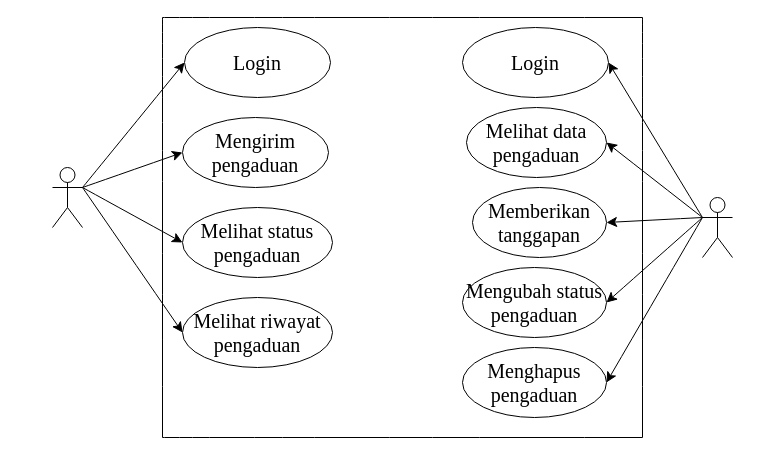
The diagram is 763 pixels wide and 456 high, and some of its shapes have lost their labels. The shapes that lost their labels are listed below. From the top down, each one's centre as x and y in pixels, then its label:
pixel 67 197: Mahasiswa
pixel 717 227: Admin
